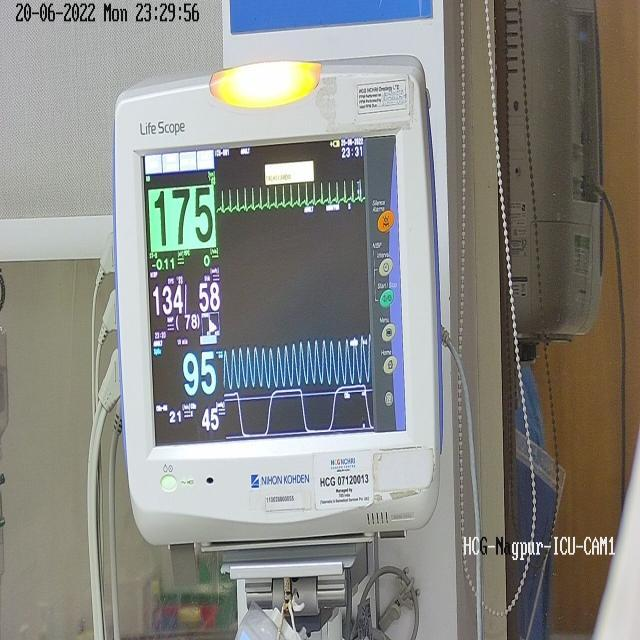Monitor: (114, 60, 443, 640)
